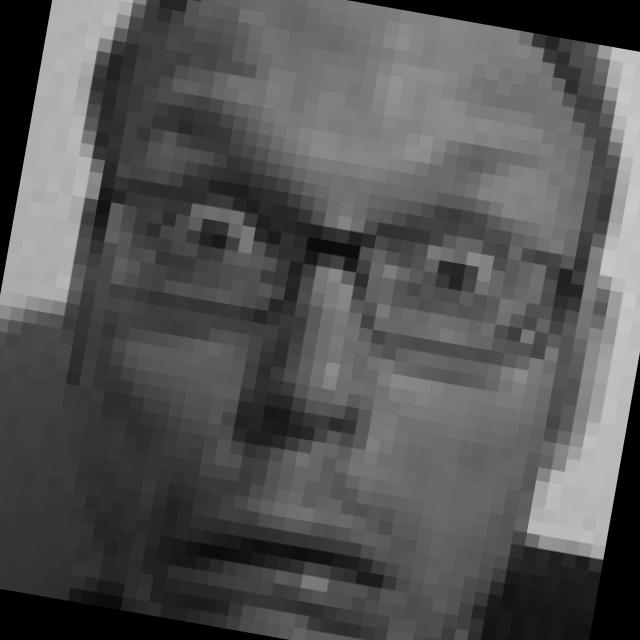surprise: (53, 75, 567, 640)
